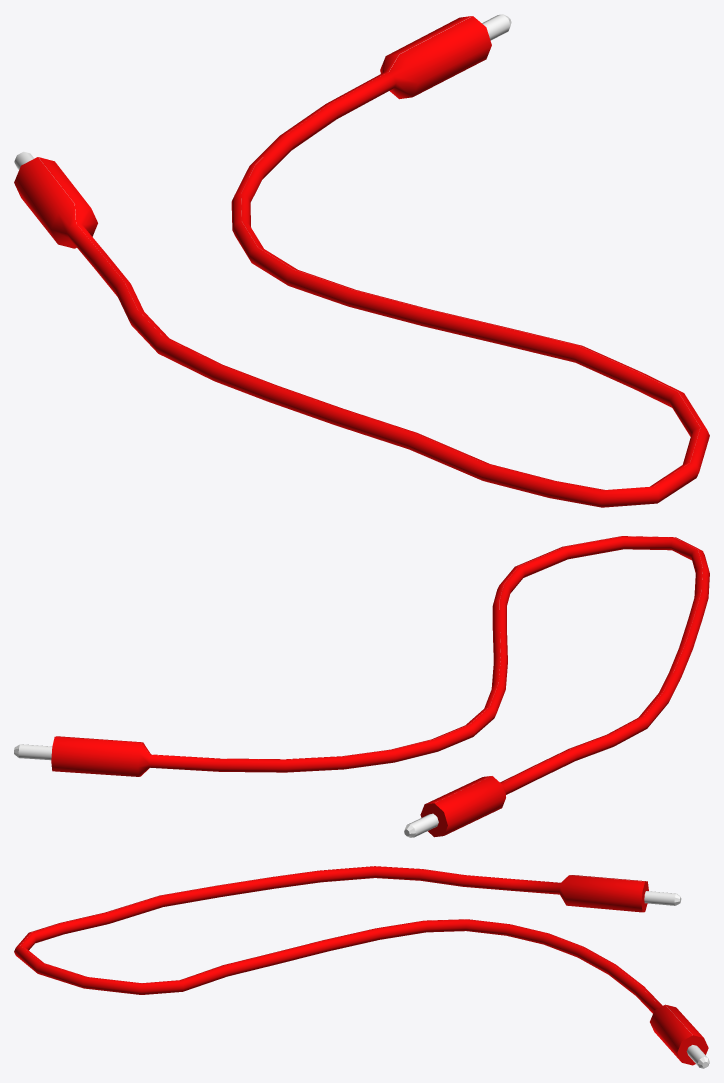
File: ElectroWires01_1.FBX
The picture shows the model from 3 angles, top to bottom: view 1: azimuth 30°, elevation 25°; view 2: azimuth 150°, elevation 25°; view 3: azimuth 270°, elevation 25°; orthographic projection. The views are drawn at different scales.
Visible parts, largest first — view 1: Wire01; view 2: Wire01; view 3: Wire01.
Part boxes in pixels (box(x1,y1,x2,y2)): Wire01: box(14, 14, 709, 507); Wire01: box(14, 536, 709, 837); Wire01: box(14, 866, 709, 1068).
Bounding box in the file's own units: 38.36 × 2.77 × 57.61.
